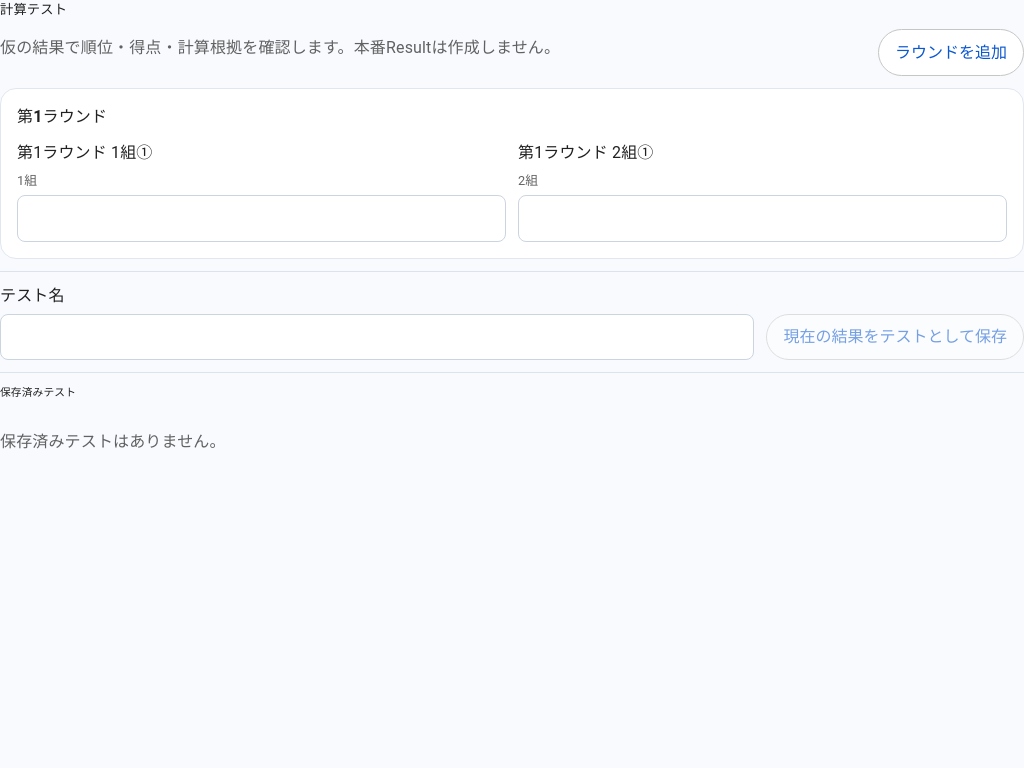
ScoringSimulatorPanel › shows the engine CalculationTrace for occupied-place tie averaging
The image size is (1024, 768).
In the number field labelled "第1ラウンド 1組①": coordinates (262, 219) [17,195,506,242], type "100"
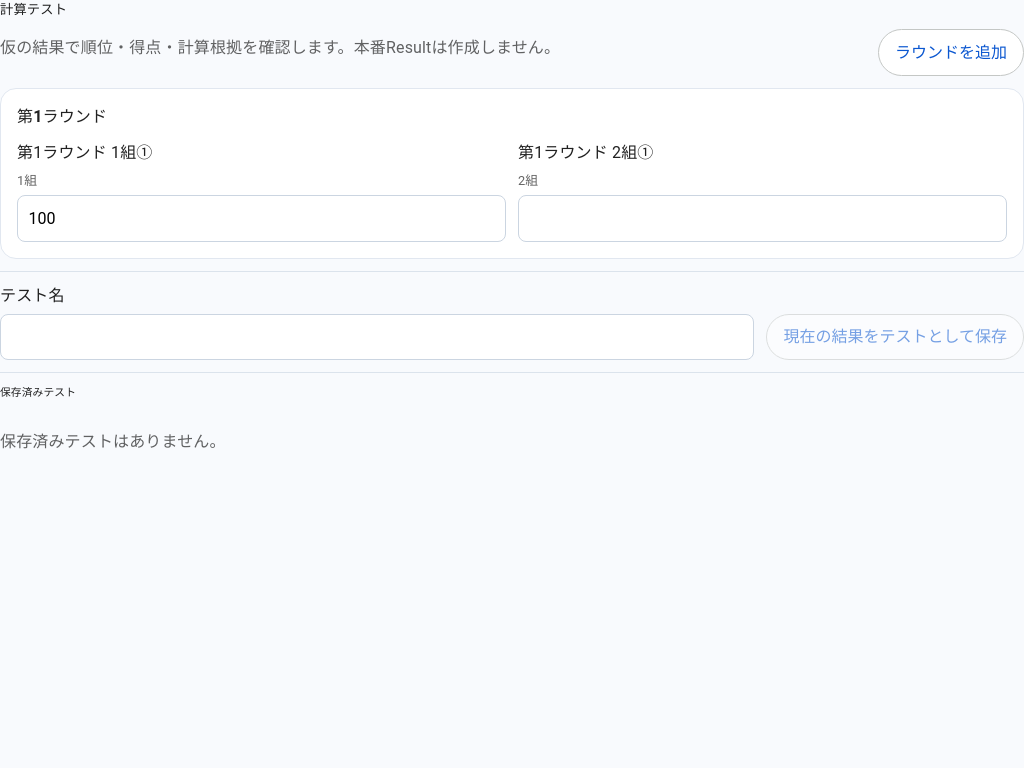
In the number field labelled "第1ラウンド 2組①": coordinates (762, 219) [518,195,1007,242], type "100"
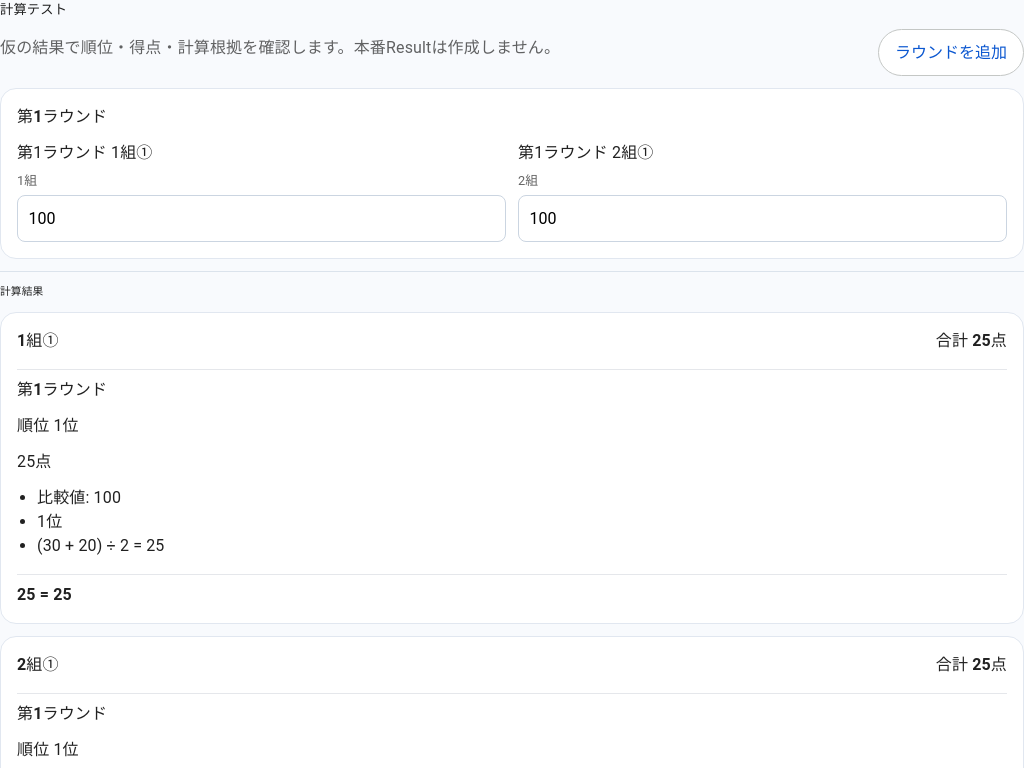
expect the number of list items "(30 + 20) ÷ 2 = 25" is 2: met
